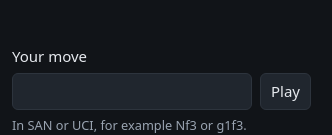
PuzzleBoard › the text field › hands a legal move (b1c3) to the callback with the position it was played from
(page scrolled)
Type "b1c3" into the field labelled "Your move" at point(132, 91), box left=12, top=73, right=252, bottom=110
Then press Enter
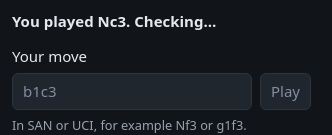
Expected: the field labelled "Your move" is disabled, left=12, top=73, right=252, bottom=110
